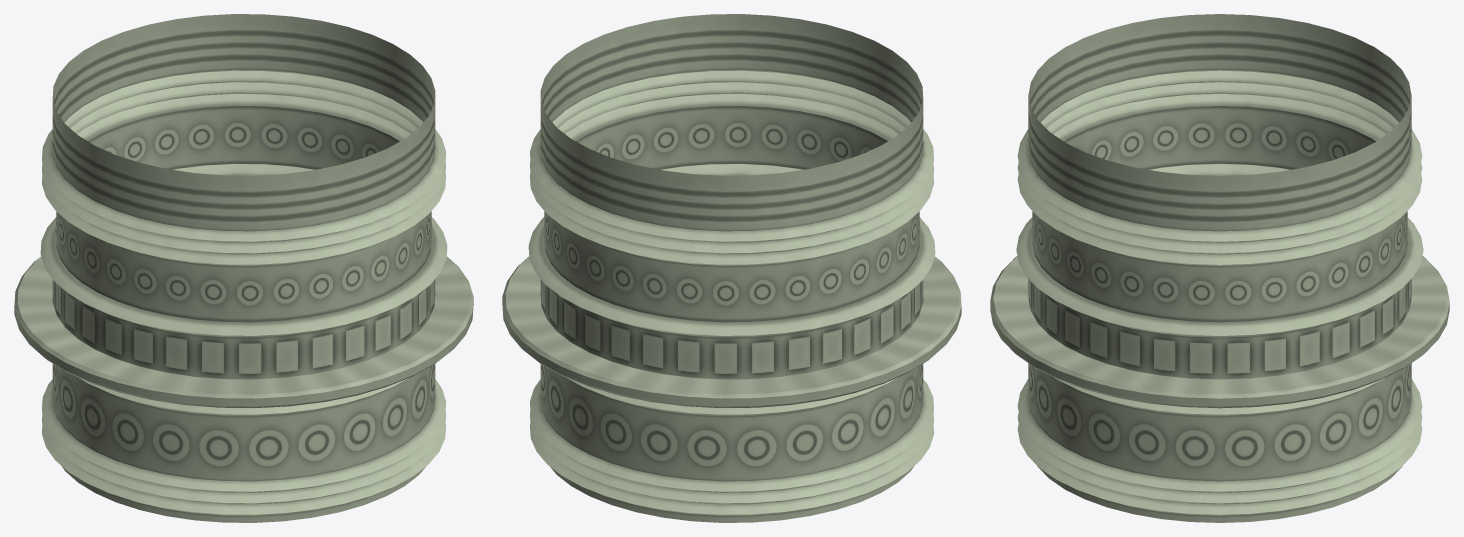
Rendered from Tower_Segment_Rings.fbx.
3 views of the same model, side by side, from view 1: azimuth 30°, elevation 25°; view 2: azimuth 150°, elevation 25°; view 3: azimuth 270°, elevation 25° (orthographic).
Visible parts, largest first — view 1: Tower_Segment_Rings; view 2: Tower_Segment_Rings; view 3: Tower_Segment_Rings.
Boxes of the visible parts, x1,y1,x2,y2 form: Tower_Segment_Rings: [14, 14, 473, 522]; Tower_Segment_Rings: [502, 14, 961, 522]; Tower_Segment_Rings: [990, 14, 1449, 522].
Size of the model in its own units: 3.6 by 3 by 3.6.
1 material, 1 textured.
